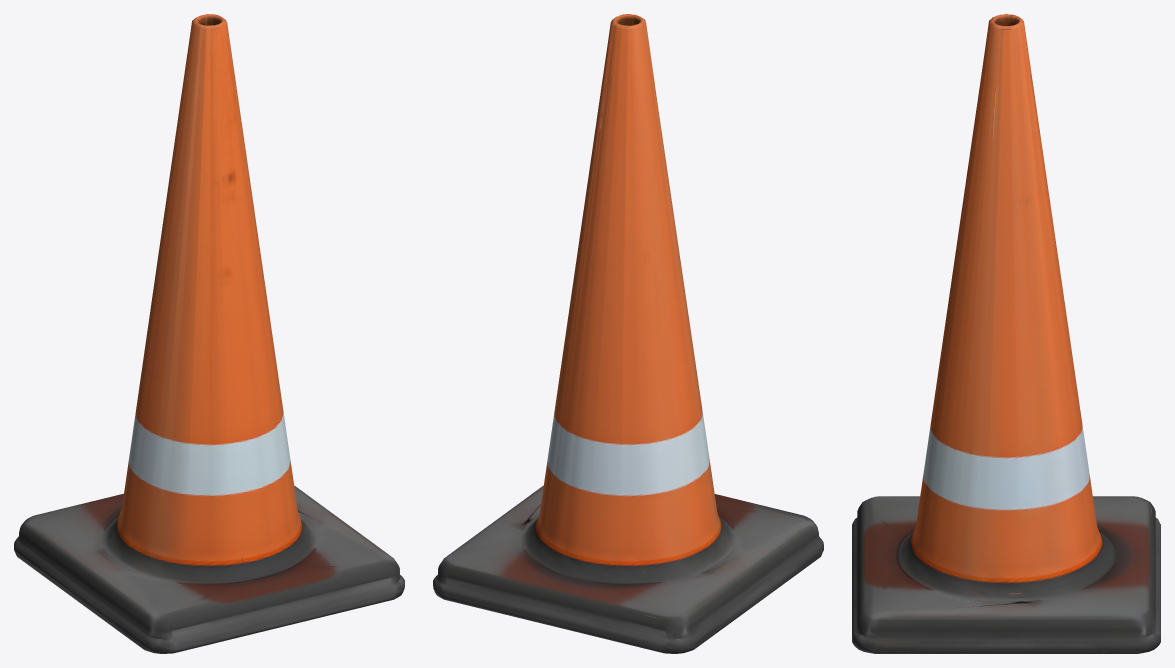
3 views of the same model, side by side, from view 1: azimuth 30°, elevation 25°; view 2: azimuth 150°, elevation 25°; view 3: azimuth 270°, elevation 25° (orthographic). The views are drawn at different scales.
Size of the model in its own units: 0.9897 by 2 by 0.9815.
Materials: 1 (1 with a texture image).
